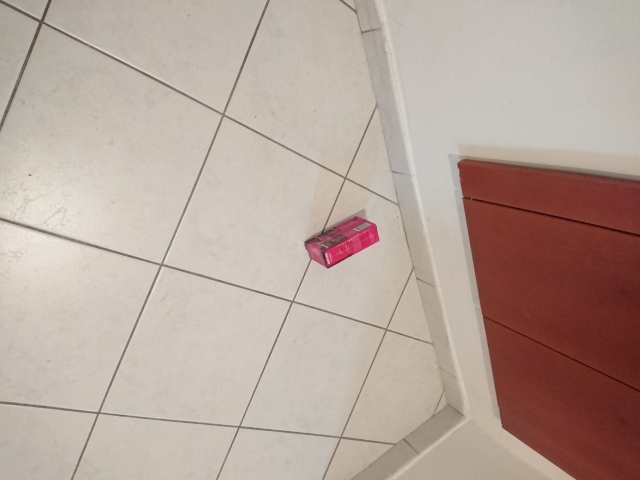Barcaffe Classic Original 225g: (303, 215, 382, 270)
